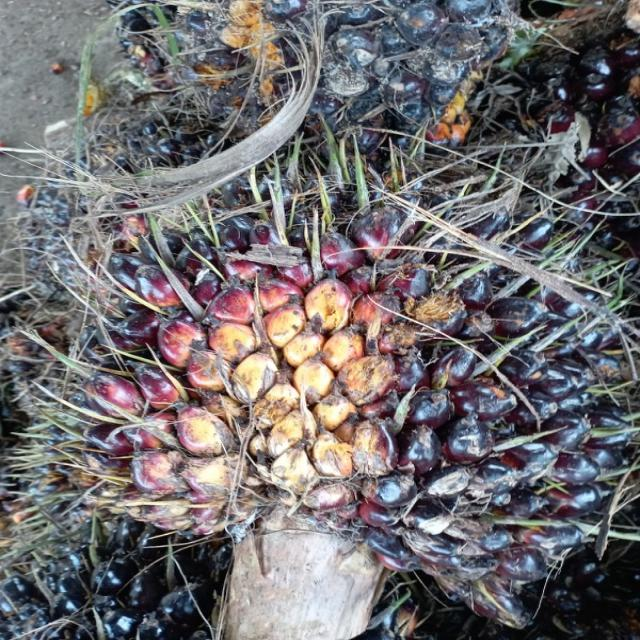fraksi 00: (61, 185, 640, 578), (110, 0, 520, 155)
